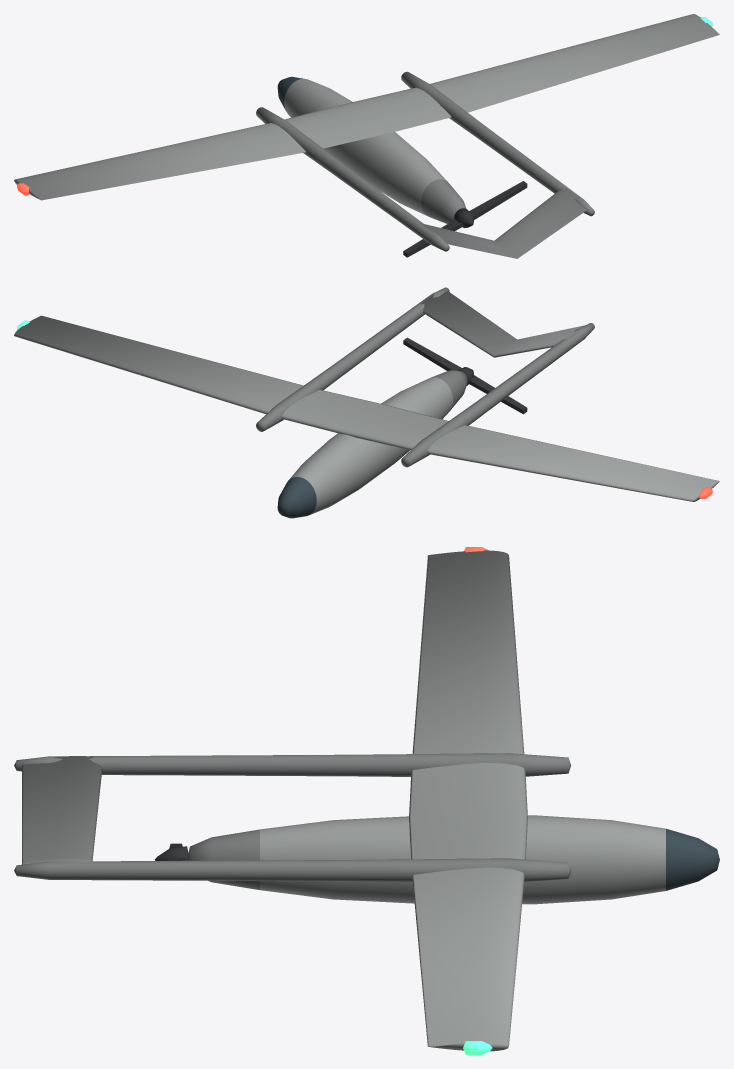
The model's file is scan-uav.glb.
3 views of the same model, one above another, from view 1: azimuth 30°, elevation 25°; view 2: azimuth 150°, elevation 25°; view 3: azimuth 270°, elevation 25° (orthographic). The views are drawn at different scales.
Visible parts, largest first — view 1: ScanUAV; view 2: ScanUAV; view 3: ScanUAV.
Part boxes in pixels (box(x1,y1,x2,y2)): ScanUAV: box(14, 14, 719, 258); ScanUAV: box(14, 287, 719, 518); ScanUAV: box(14, 547, 719, 1054).
Size of the model in its own units: 4.37 by 0.434 by 2.61.
